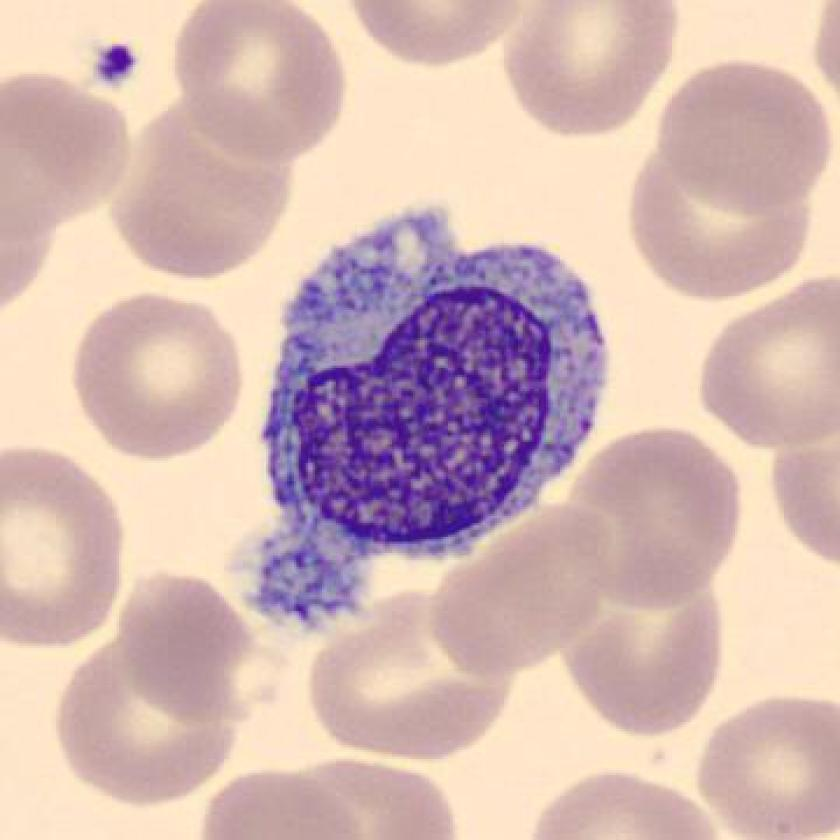monocyte: (218, 200, 633, 667)
